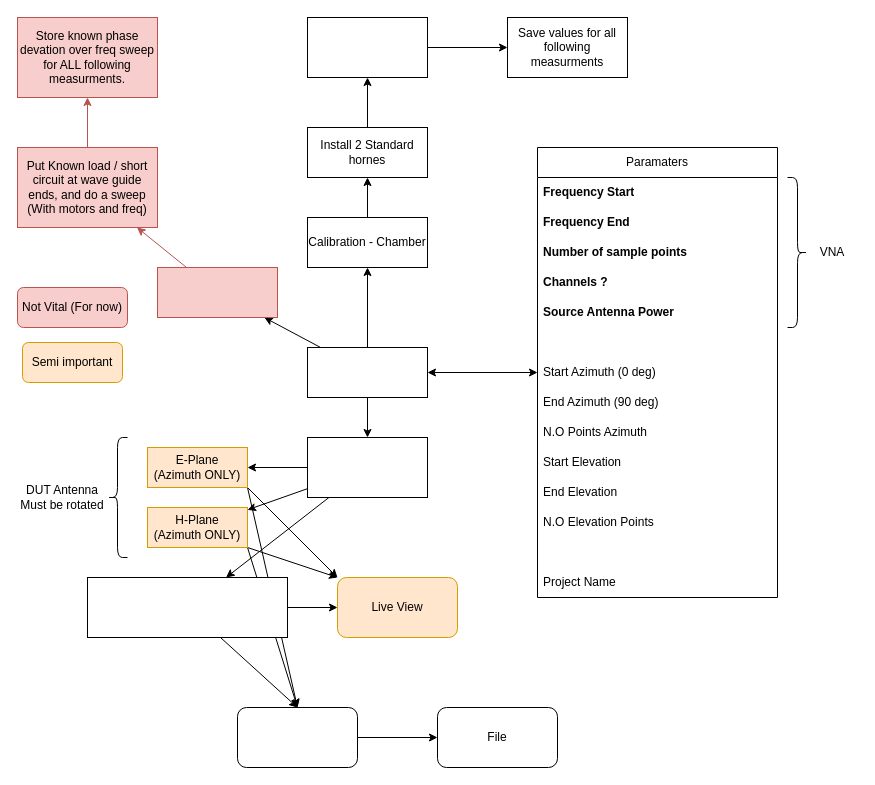
This 875x785 diagram has some shape labels left out. Here are the shapes that lost their labels. From the top down, the centre of each, then its label:
(x=367, y=47): Calibrate for gain / no idealites in chamber. (Basically zero-ing the chamber )
(x=217, y=292): Calibration - Phase of coax
(x=367, y=372): GUI / User Inputs
(x=367, y=467): Select Measurment
(x=187, y=607): Single Freq 3D Pattern (Or 2D, which can be done in post processing by the user)
(x=297, y=737): Data Processing (Compress / convert data to one file)
